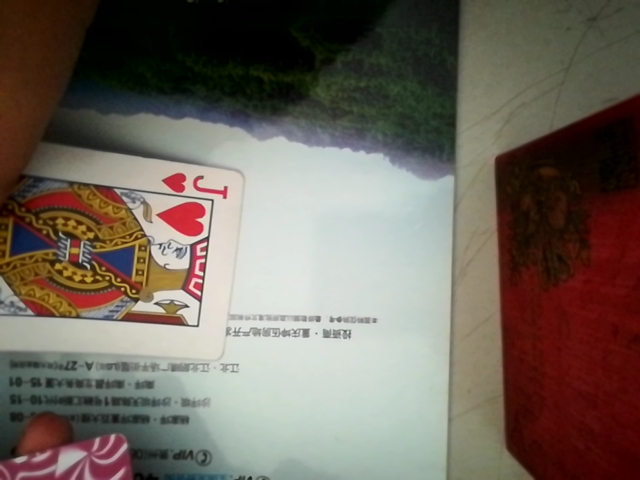hx j: (1, 148, 244, 354)
